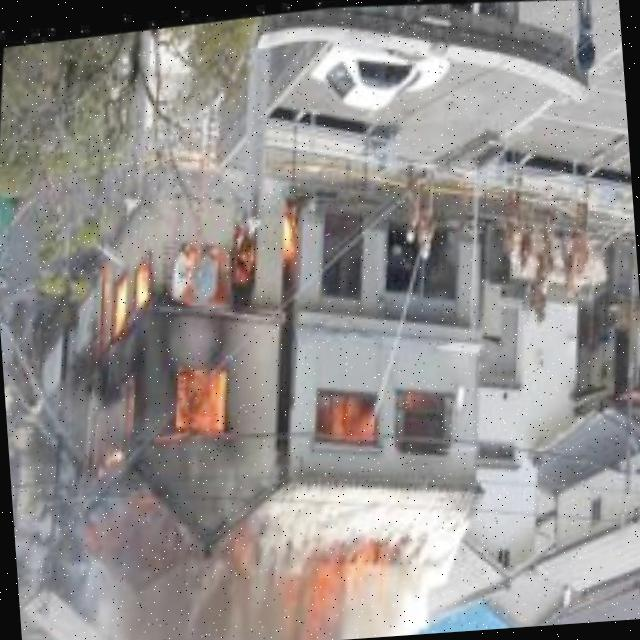fire: (62, 177, 318, 475), (245, 527, 416, 640), (308, 370, 443, 446)
